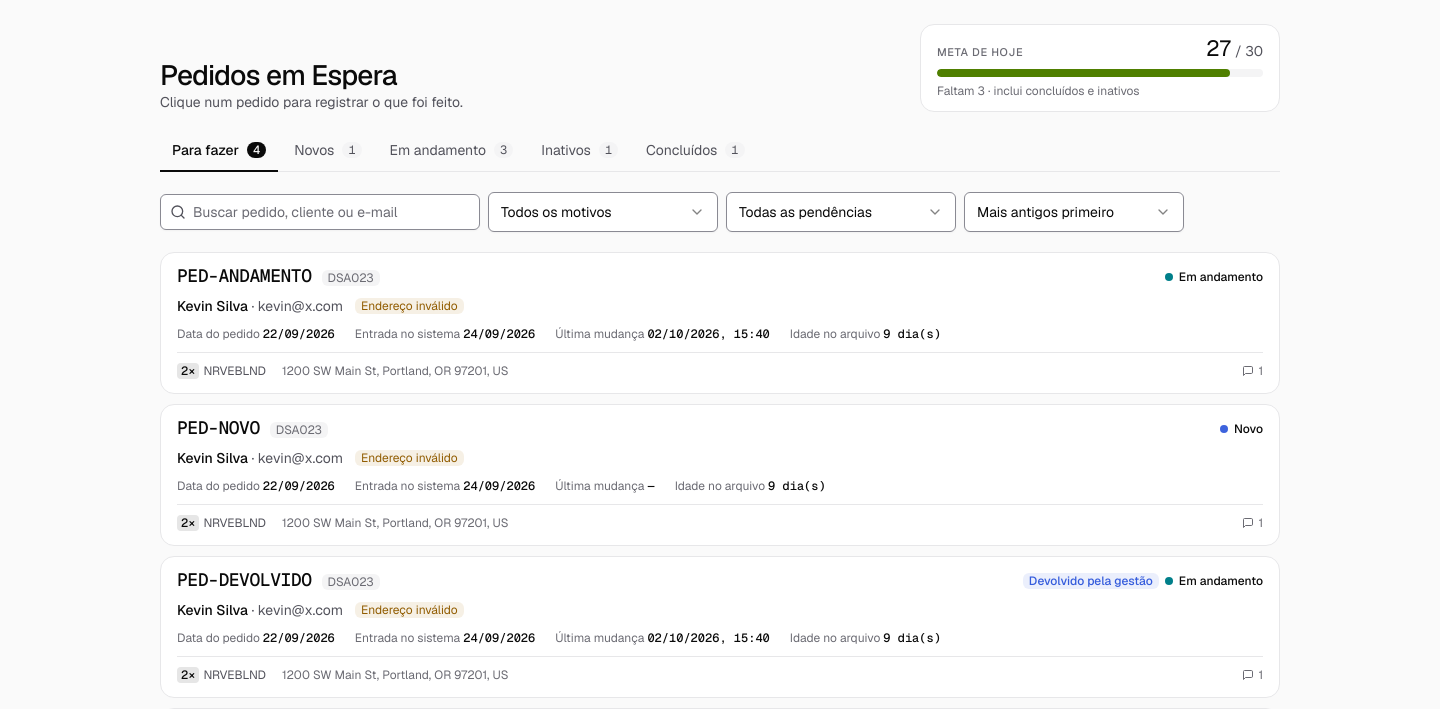
Scenario: PedidosEspera (agente) › a busca filtra por pedido, cliente ou e-mail
Type "devolvido" into the field with placeholder "Buscar pedido, cliente ou e-mail" at [320, 212], box x1=160 y1=194 x2=480 y2=230
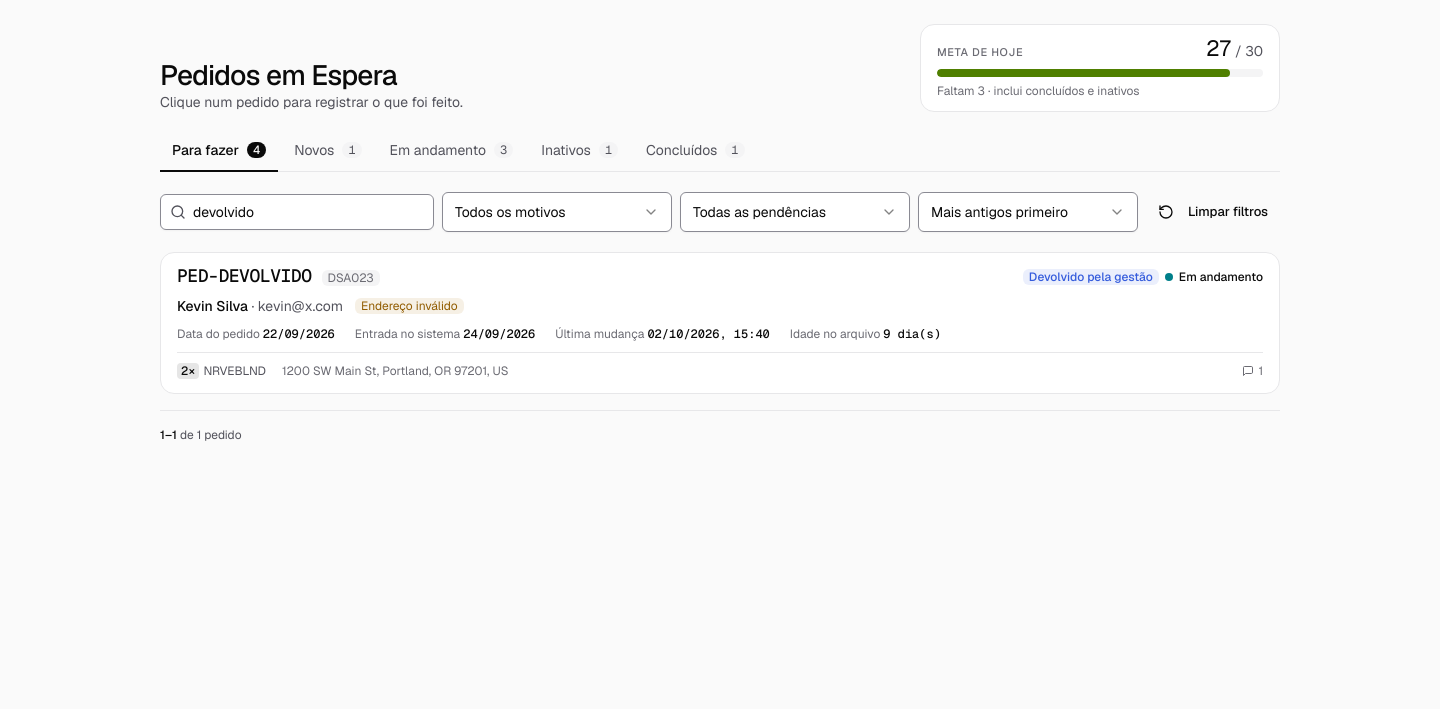
Expected: the text "PED-DEVOLVIDO" is shown, x1=177 y1=267 x2=312 y2=285
Result: the button "PED-NOVO" is gone
